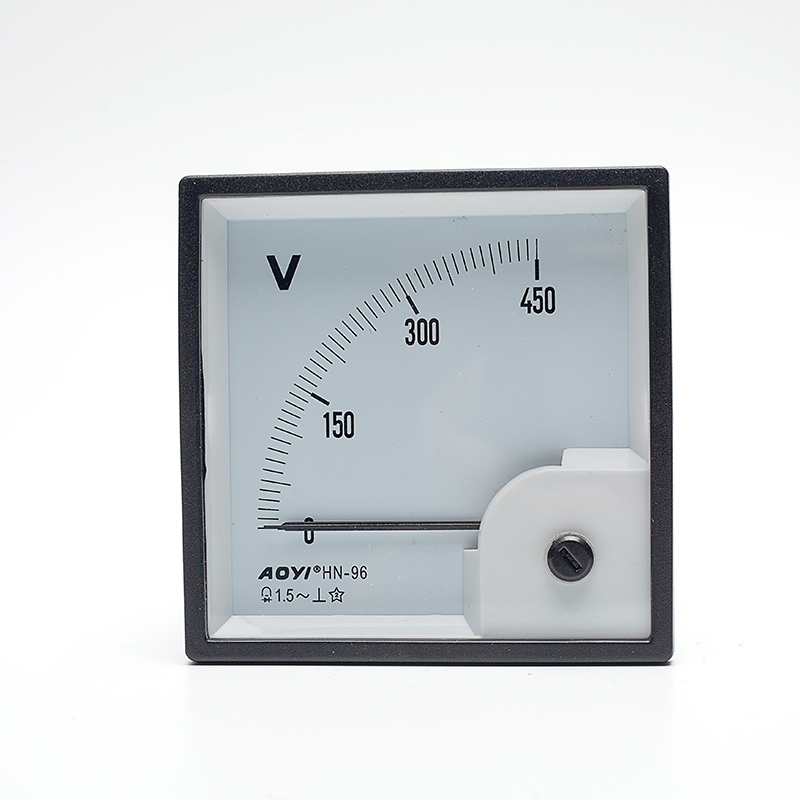pointer: (200, 190, 651, 641)
